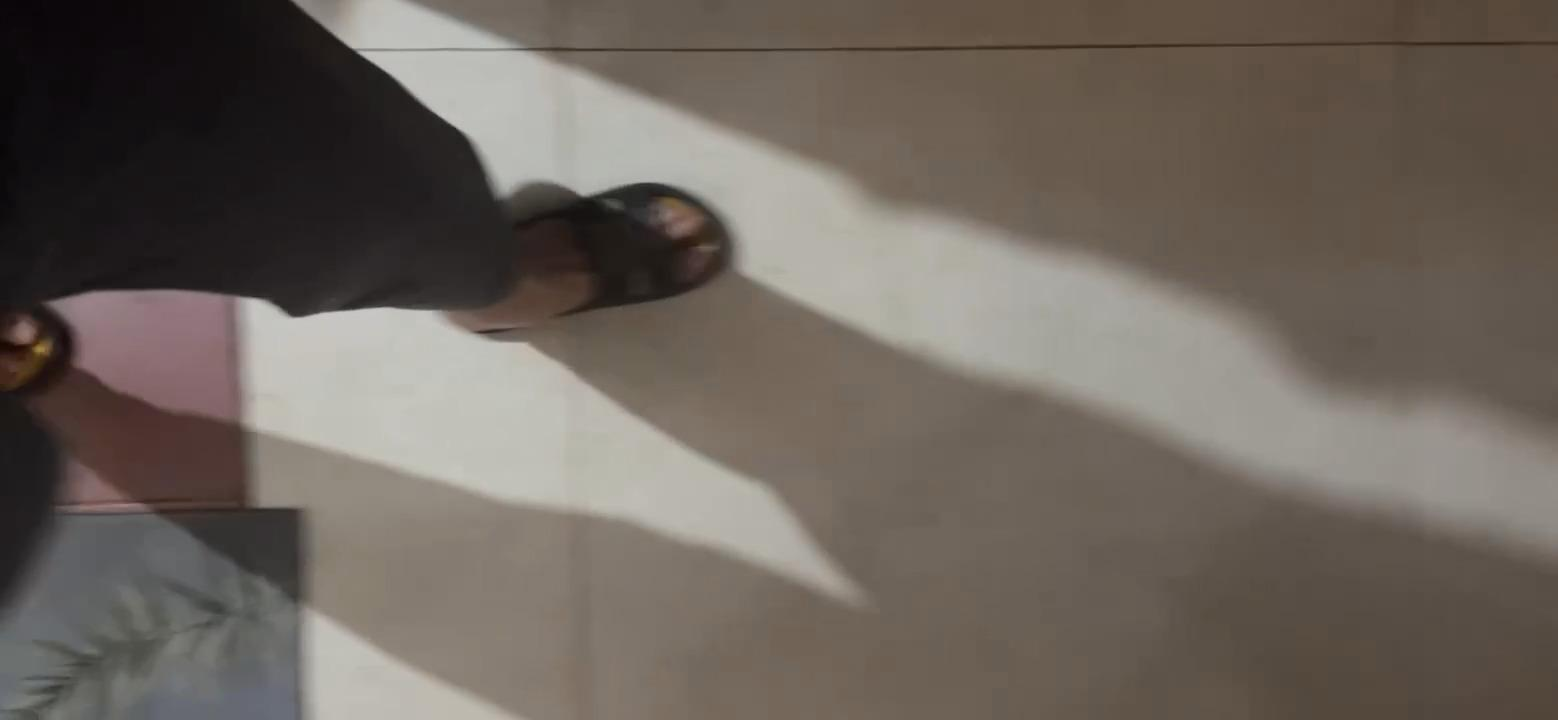no-boot: (471, 177, 763, 336)
